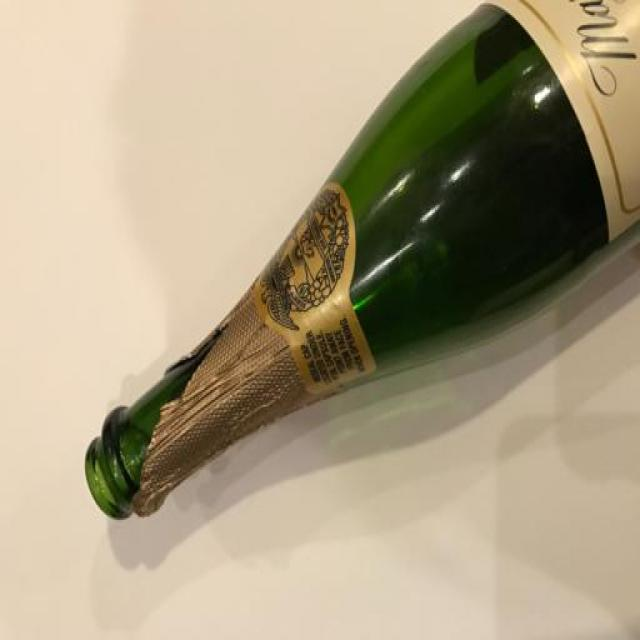Waste: (85, 1, 640, 519)
